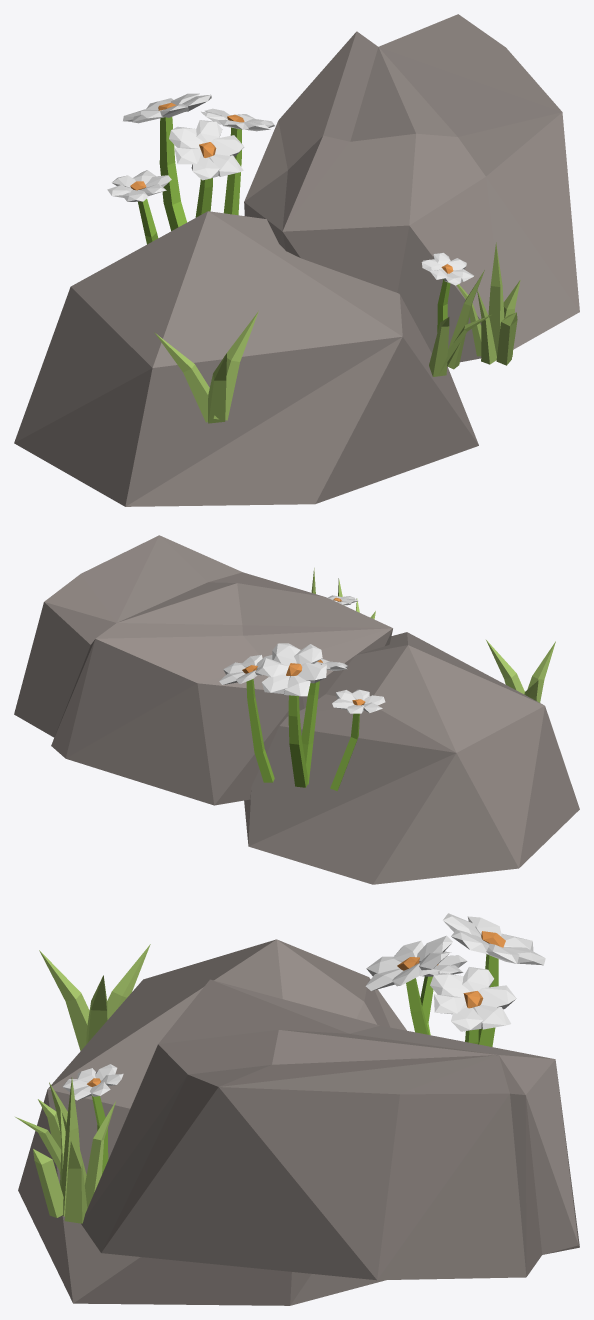
3 renders of one model, top to bottom at view 1: azimuth 30°, elevation 25°; view 2: azimuth 150°, elevation 25°; view 3: azimuth 270°, elevation 25°, orthographic. The views are drawn at different scales.
Visible parts, largest first — view 1: Rock10.001; view 2: Rock10.001; view 3: Rock10.001.
Part boxes in pixels (x1,y1,x2,y2): Rock10.001: (14, 14, 579, 506); Rock10.001: (14, 535, 579, 884); Rock10.001: (15, 913, 579, 1305).
Size of the model in its own units: 147 by 65.24 by 110.
